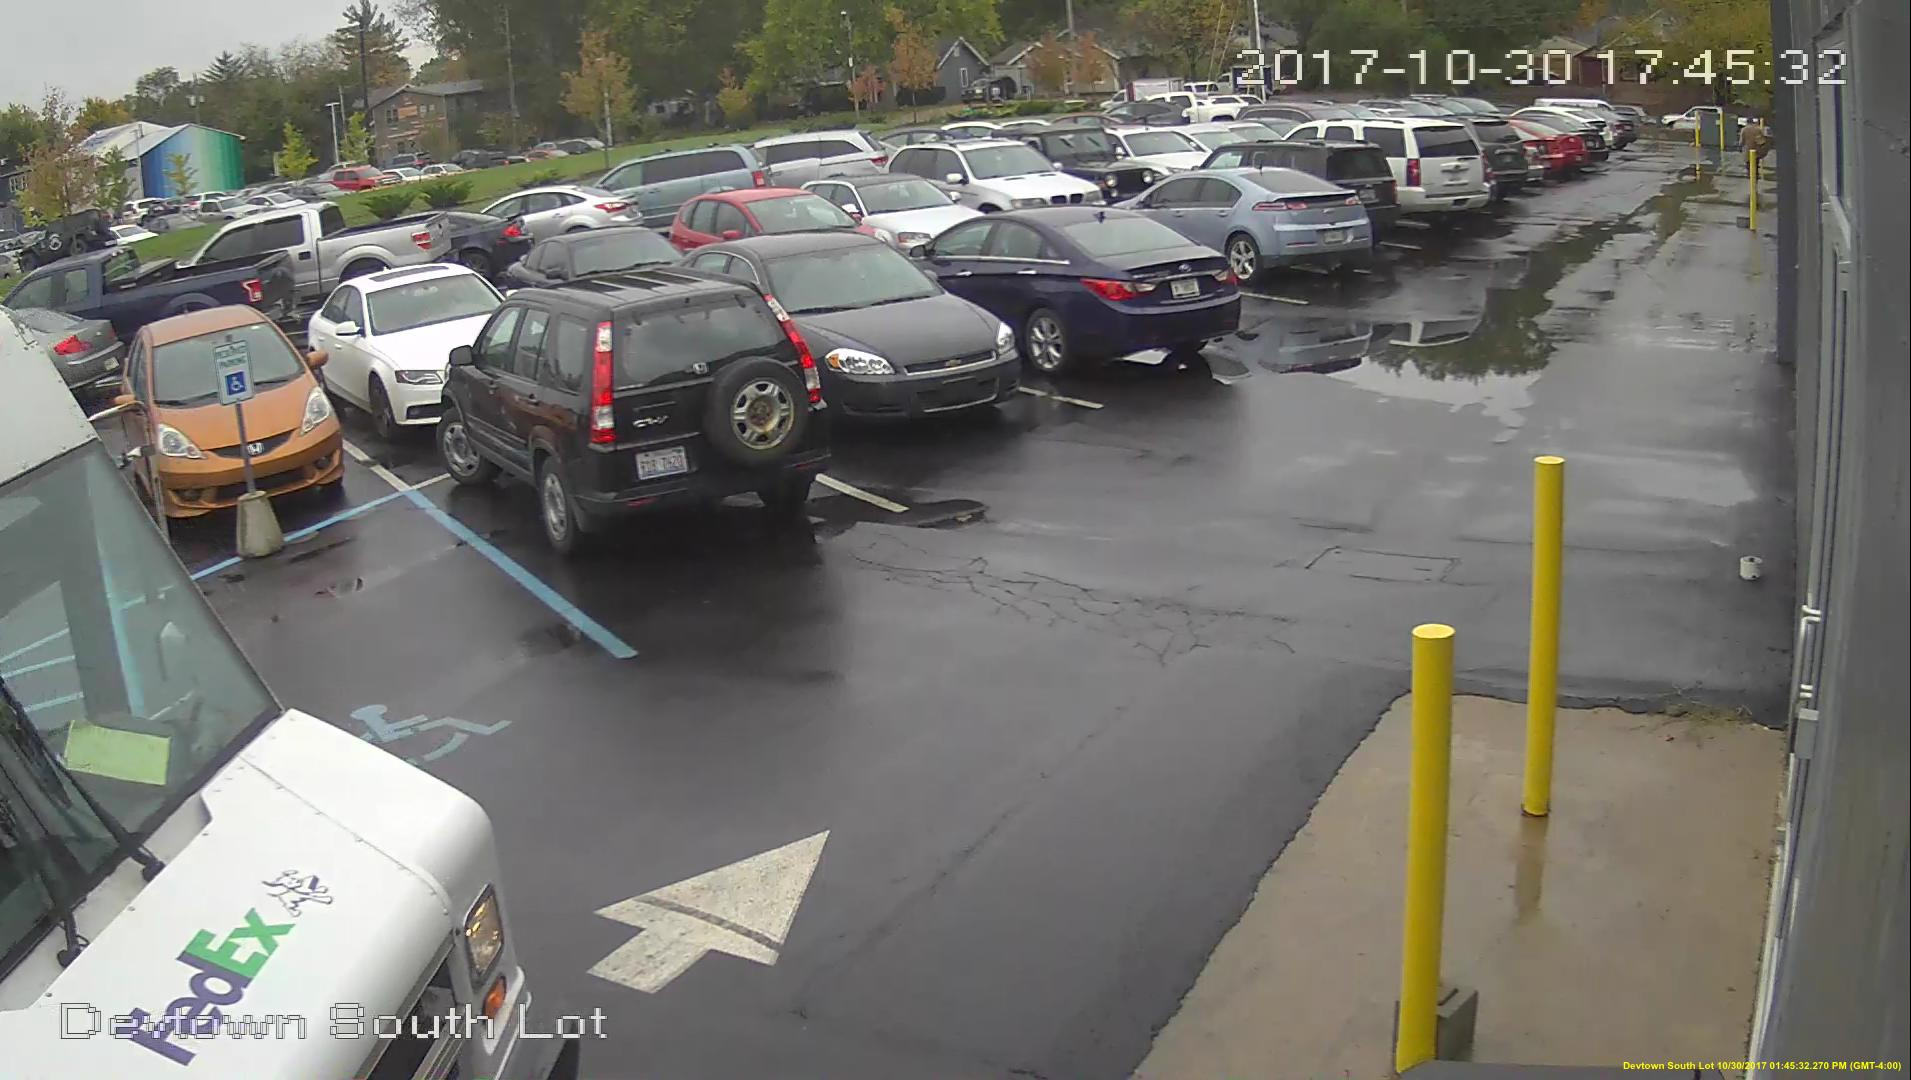fedex_truck: (1, 454, 476, 1072)
